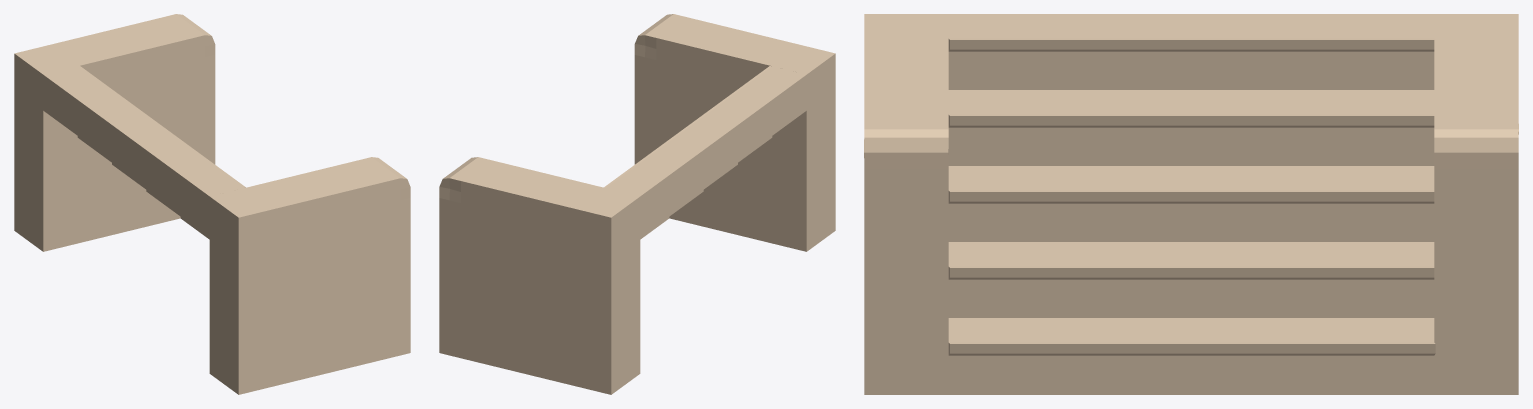
Rendered from floorstairs.fbx.
The picture shows the model from 3 angles, left to right: view 1: azimuth 30°, elevation 25°; view 2: azimuth 150°, elevation 25°; view 3: azimuth 270°, elevation 25°; orthographic projection. The views are drawn at different scales.
Parts seen in each view (by area): view 1: left side, right side, stairs; view 2: right side, left side, stairs; view 3: stairs, left side, right side.
Boxes of the visible parts, x1,y1,x2,y2 form: left side: (209,157,410,394); right side: (14,14,215,251); stairs: (43,65,245,239); right side: (439,157,640,394); left side: (634,14,835,251); stairs: (603,66,806,239); stairs: (948,14,1435,394); left side: (864,14,948,394); right side: (1434,14,1518,394).
Size of the model in its own units: 263 by 256 by 588.
